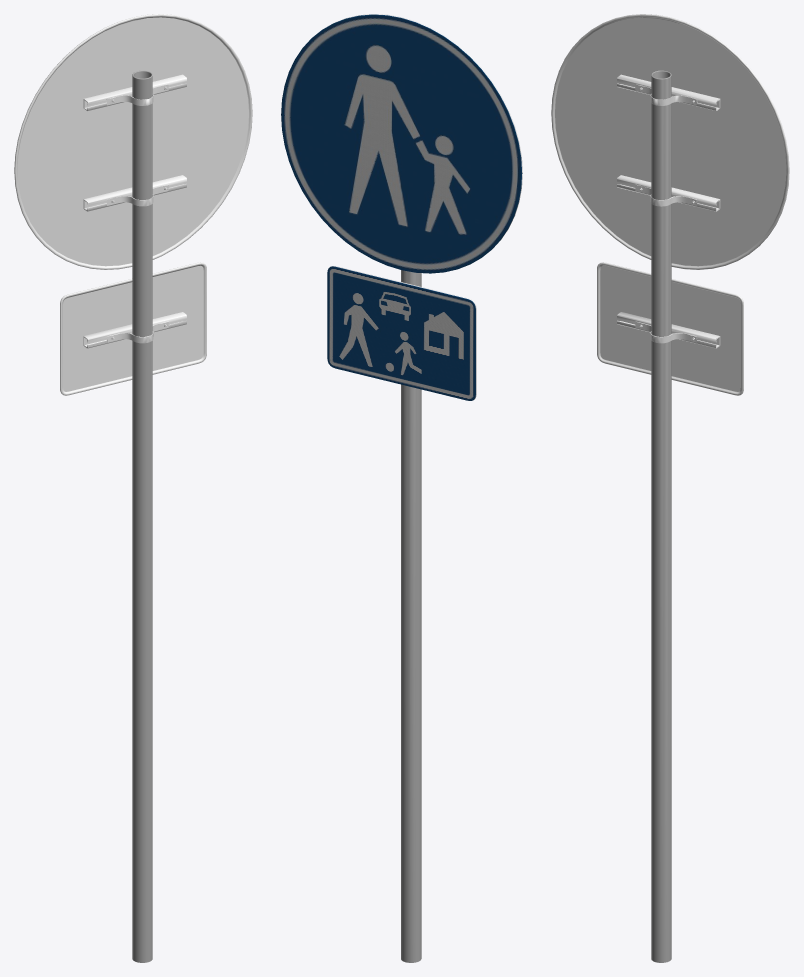
Rendered from o3_segnale_10.glb.
The picture shows the model from 3 angles, left to right: view 1: azimuth 30°, elevation 25°; view 2: azimuth 150°, elevation 25°; view 3: azimuth 330°, elevation 25°; orthographic projection.
Parts seen in each view (by area): view 1: sb_modello; view 2: sb_modello; view 3: sb_modello.
Boxes of the visible parts, left/top/right/bottom form: sb_modello: left=14, top=14, right=252, bottom=962; sb_modello: left=281, top=14, right=522, bottom=962; sb_modello: left=551, top=14, right=789, bottom=962.
Size of the model in its own units: 0.7672 by 2.88 by 0.0845.
6 materials, 2 textured.
